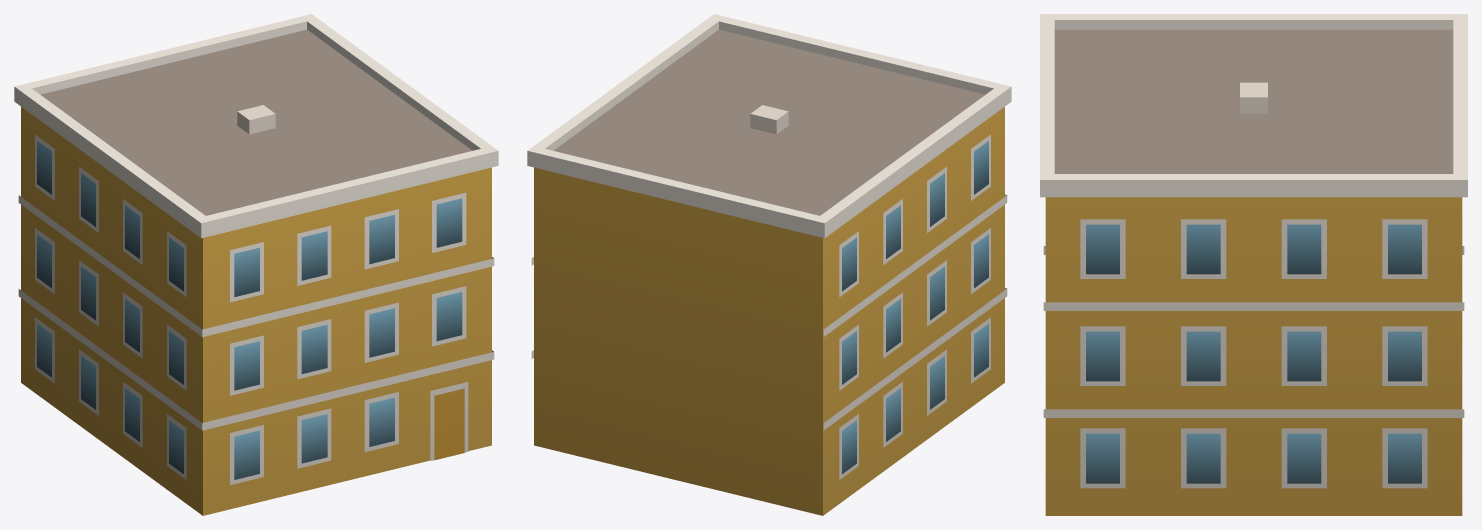
The model's file is vee_right0_far.glb.
The picture shows the model from 3 angles, left to right: view 1: azimuth 30°, elevation 25°; view 2: azimuth 150°, elevation 25°; view 3: azimuth 270°, elevation 25°; orthographic projection. The views are drawn at different scales.
Parts seen in each view (by area): view 1: vee_right0_far; view 2: vee_right0_far; view 3: vee_right0_far.
Part boxes in pixels (x1,y1,x2,y2): vee_right0_far: (14, 14, 498, 515); vee_right0_far: (527, 14, 1011, 515); vee_right0_far: (1040, 14, 1467, 515).
Bounding box in the file's own units: 11.32 × 10.97 × 12.32.
1 material, 1 textured.
